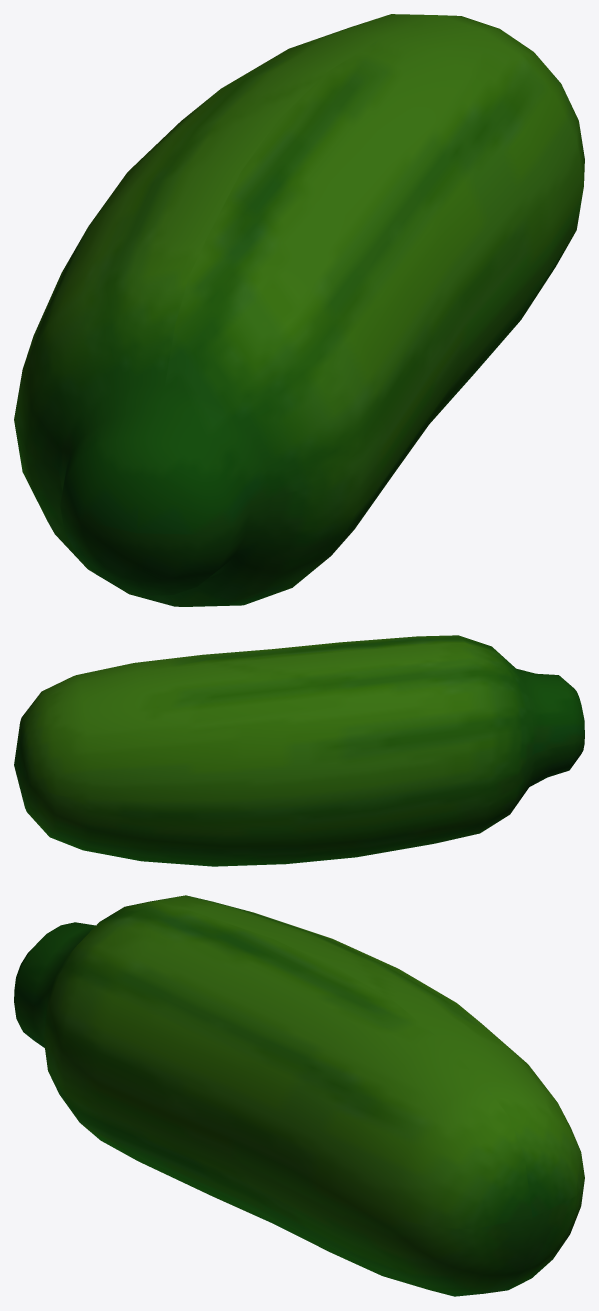
File: Cucumber.obj
3 views of the same model, one above another, from view 1: azimuth 30°, elevation 25°; view 2: azimuth 150°, elevation 25°; view 3: azimuth 270°, elevation 25° (orthographic). The views are drawn at different scales.
Visible parts, largest first — view 1: Cucumber; view 2: Cucumber; view 3: Cucumber.
Boxes of the visible parts, x1=… form: Cucumber: x1=14, y1=14, x2=584, y2=606; Cucumber: x1=14, y1=635, x2=584, y2=866; Cucumber: x1=14, y1=895, x2=584, y2=1296.
Bounding box in the file's own units: 0.2422 × 0.1096 × 0.22.
Materials: 1 (1 with a texture image).
